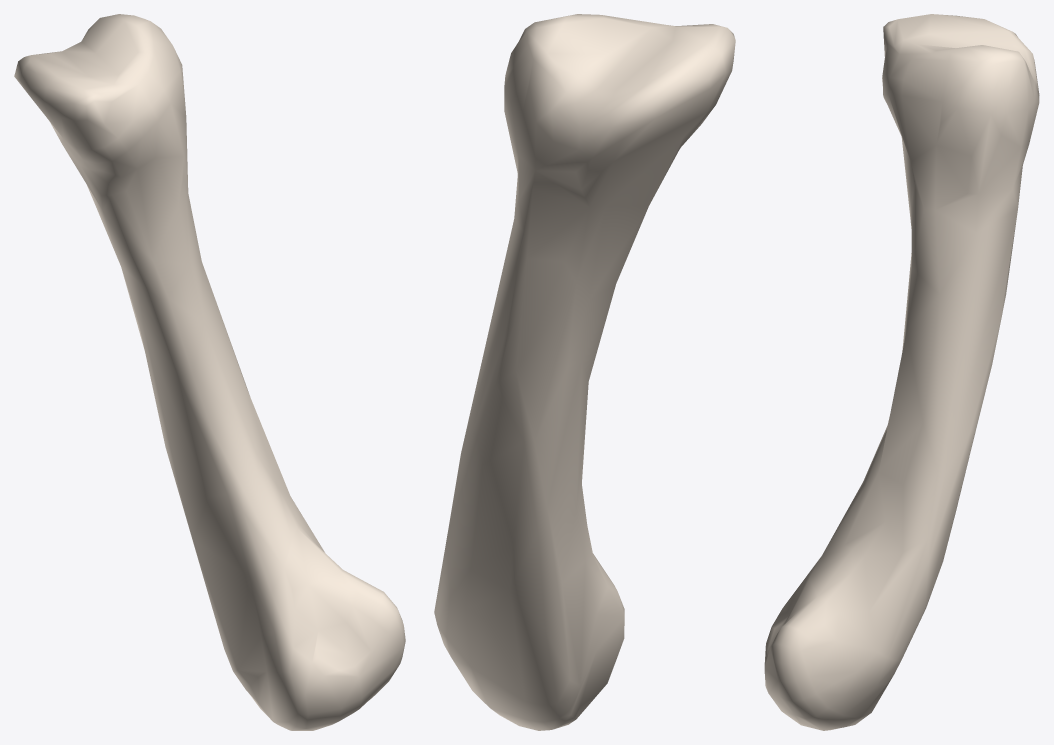
Rendered from left_metacarpal_2.glb.
3 renders of one model, left to right at view 1: azimuth 30°, elevation 25°; view 2: azimuth 150°, elevation 25°; view 3: azimuth 270°, elevation 25°, orthographic. The views are drawn at different scales.
Parts seen in each view (by area): view 1: 2nd metacarpal bone.r; view 2: 2nd metacarpal bone.r; view 3: 2nd metacarpal bone.r.
Boxes of the visible parts, x1,y1,x2,y2 form: 2nd metacarpal bone.r: [14, 14, 405, 730]; 2nd metacarpal bone.r: [434, 14, 735, 730]; 2nd metacarpal bone.r: [764, 14, 1039, 730].
Bounding box in the file's own units: 0.0296 × 0.0656 × 0.0258.
